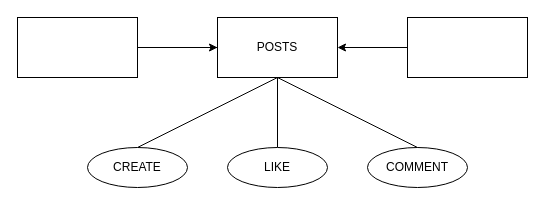
Image size: 545x205. Some labels were removed from this diagram. The centre of each missing label's shape, as x and y in pixels:
"ORGANIZATIONS" goes at point 467,47.
"USER" goes at point 77,47.
